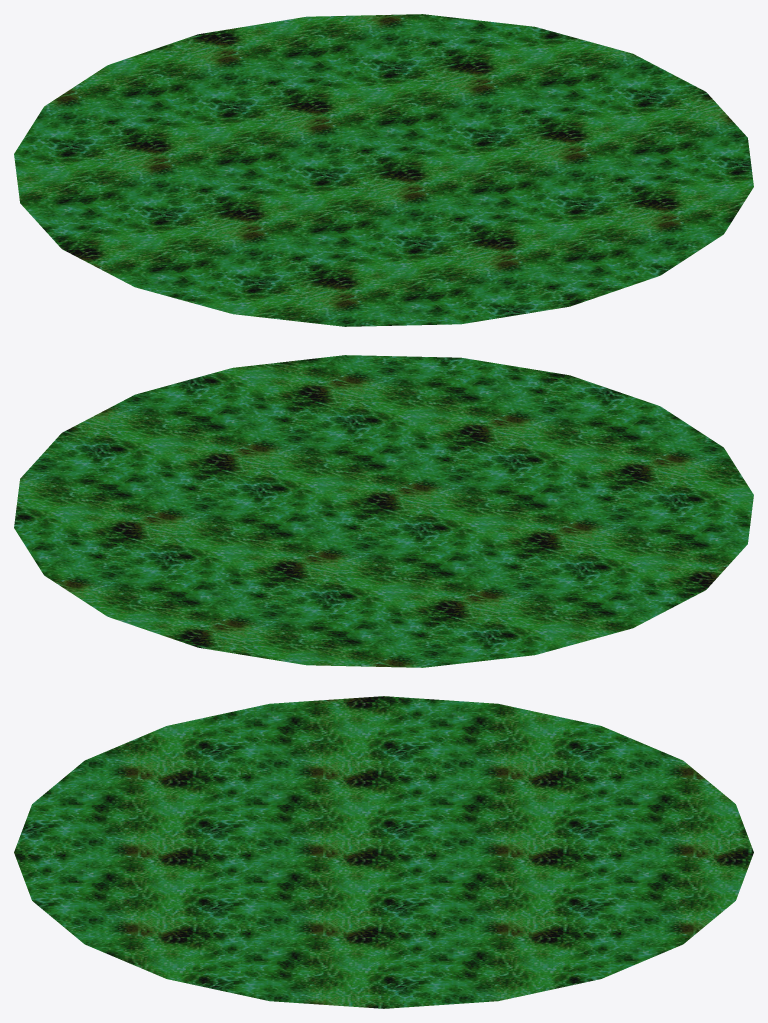
File: Virus01.obj
3 views of the same model, one above another, from view 1: azimuth 30°, elevation 25°; view 2: azimuth 150°, elevation 25°; view 3: azimuth 270°, elevation 25° (orthographic).
Visible parts, largest first — view 1: Virus01; view 2: Virus01; view 3: Virus01.
Part boxes in pixels (<box>): Virus01: <box>14,14,753,326</box>; Virus01: <box>14,355,753,667</box>; Virus01: <box>14,696,753,1008</box>.
Size of the model in its own units: 1051 by 0 by 1051.
